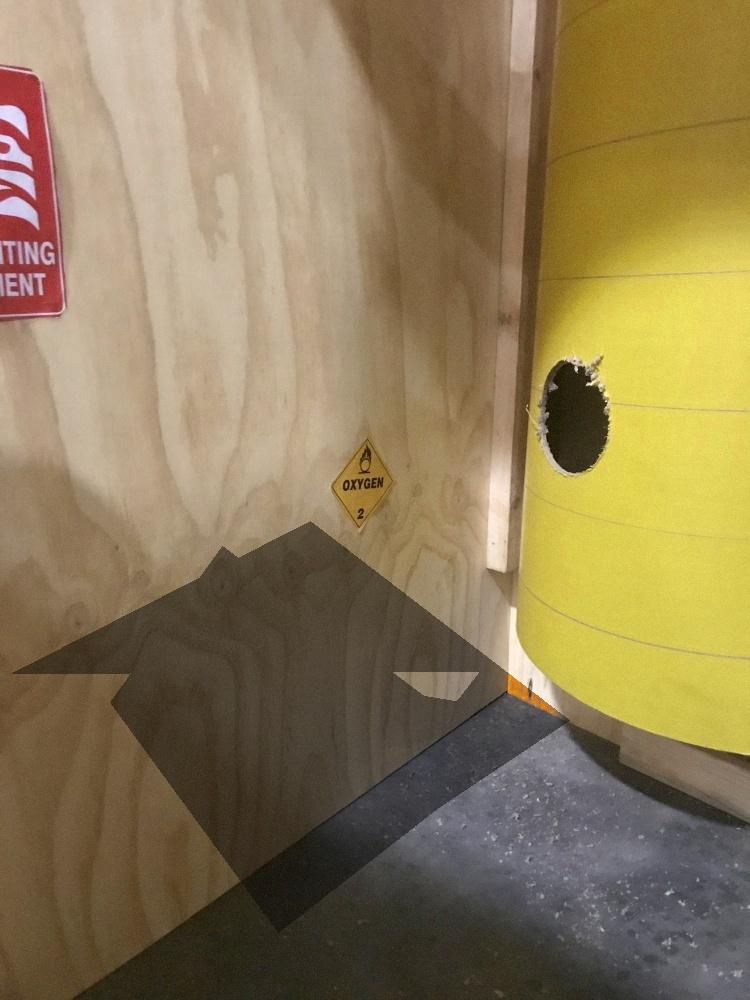oxidizer: (332, 436, 399, 531)
